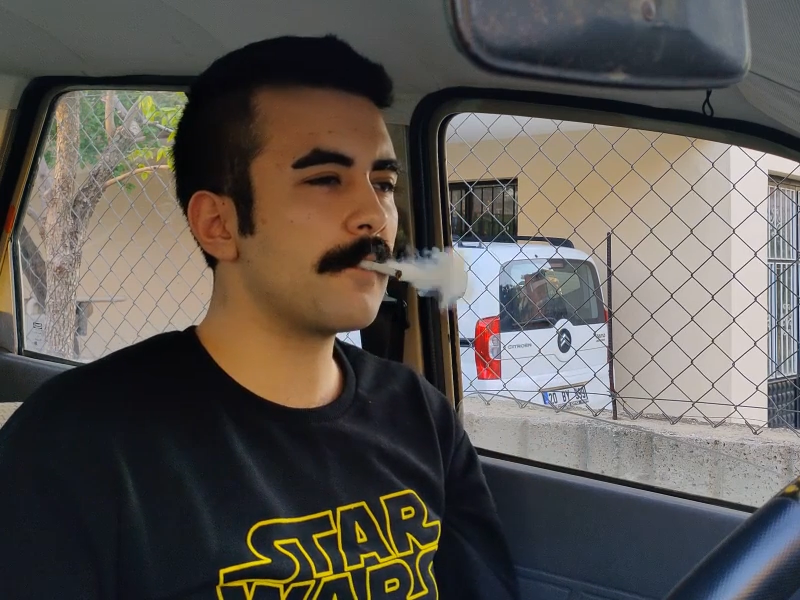sigara: (359, 259, 403, 279)
